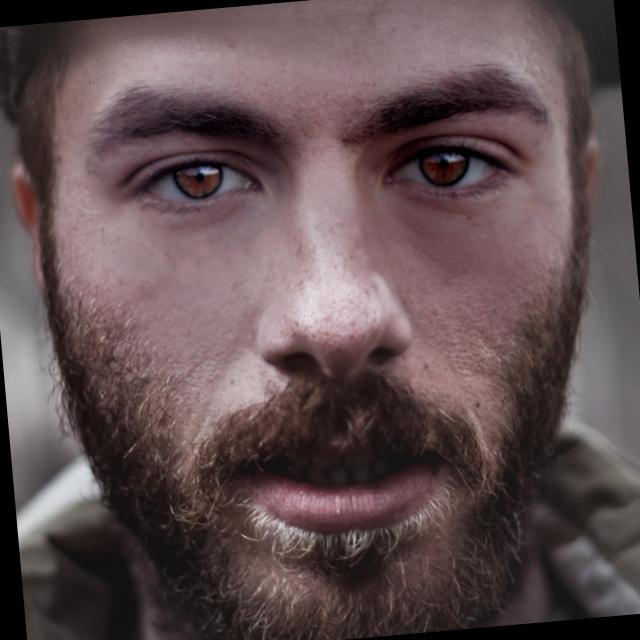face: (5, 10, 639, 640)
